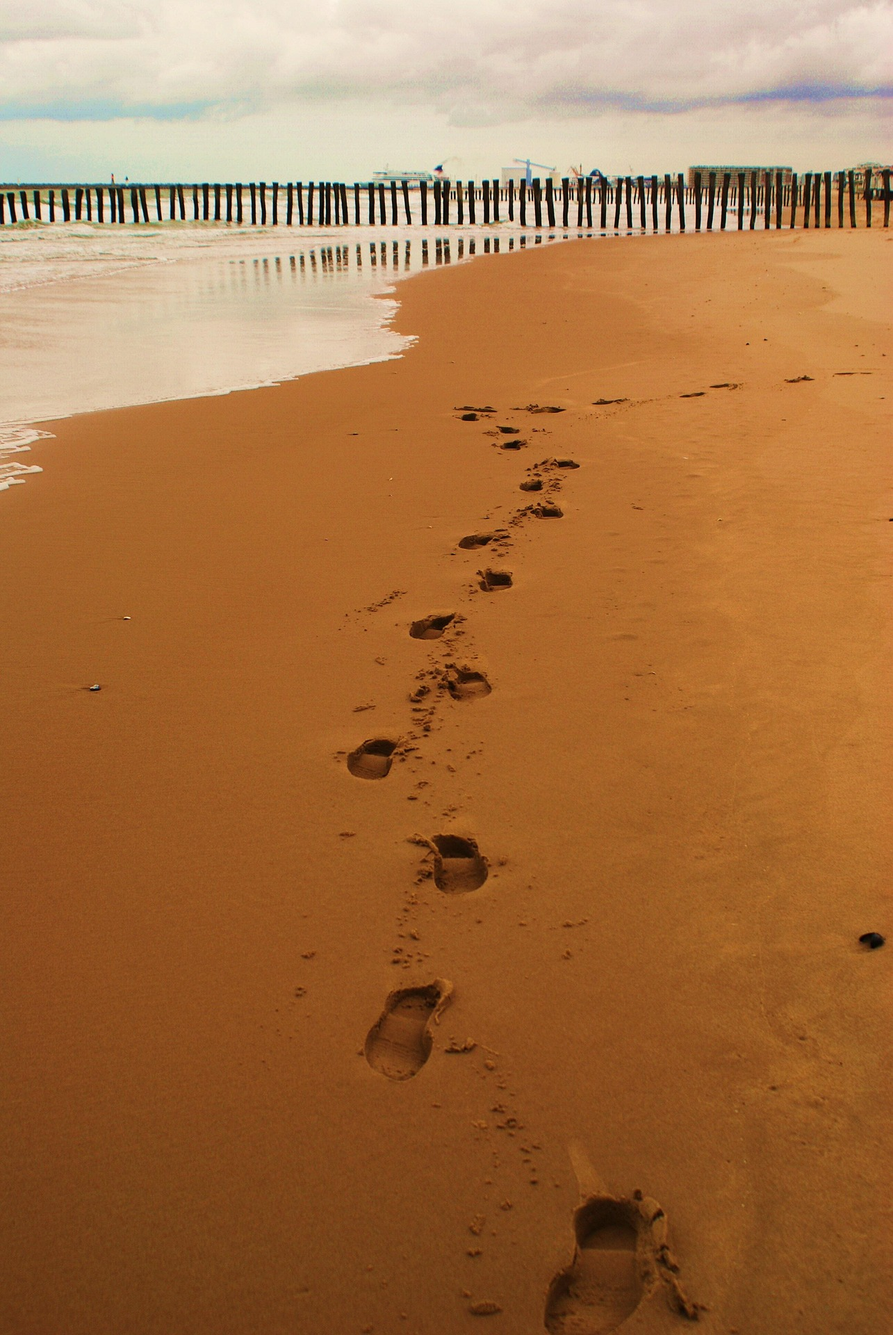human_foot_print: (337, 400, 580, 1116), (528, 1172, 674, 1335)
